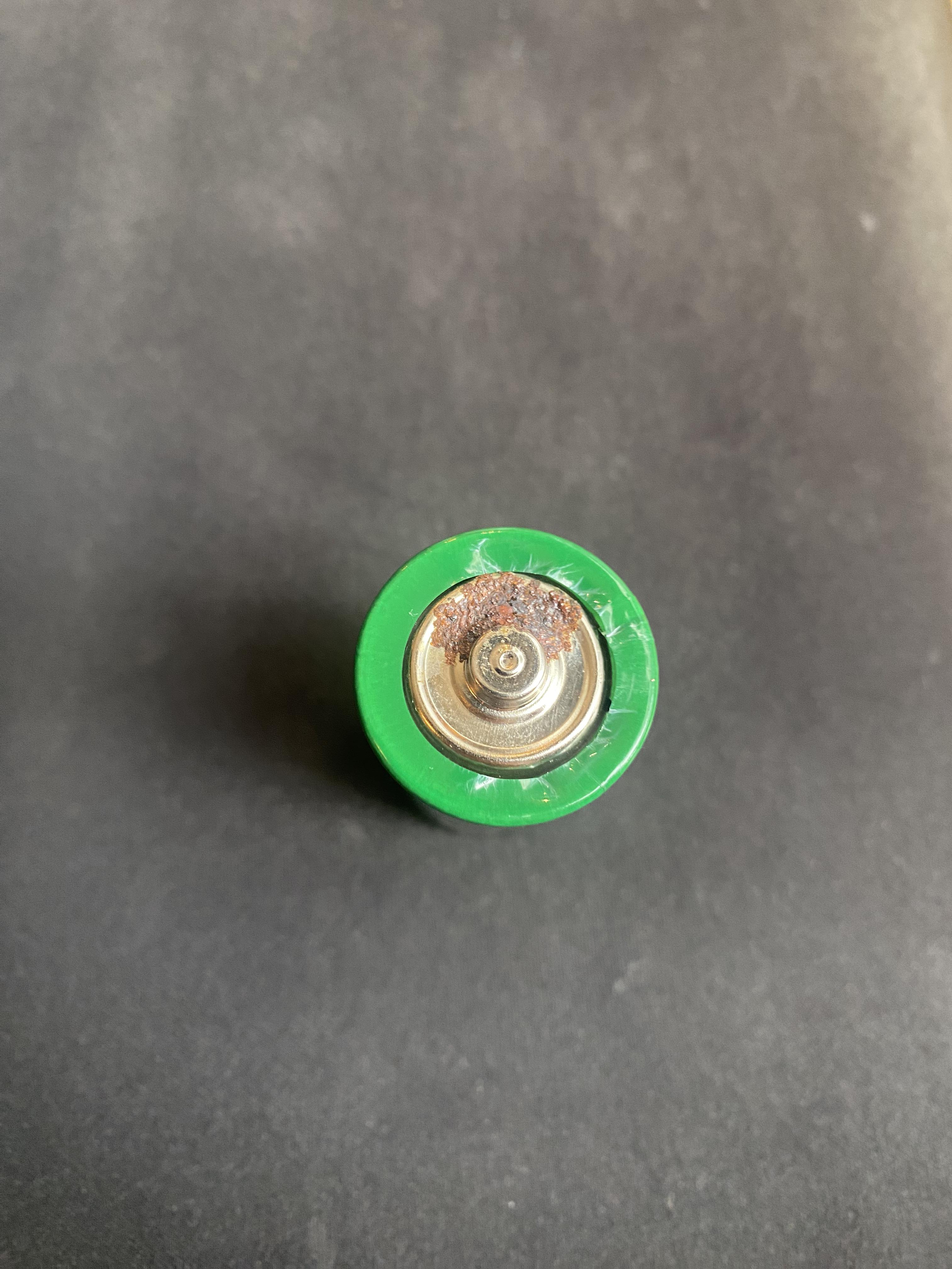AA: (353, 524, 660, 827)
